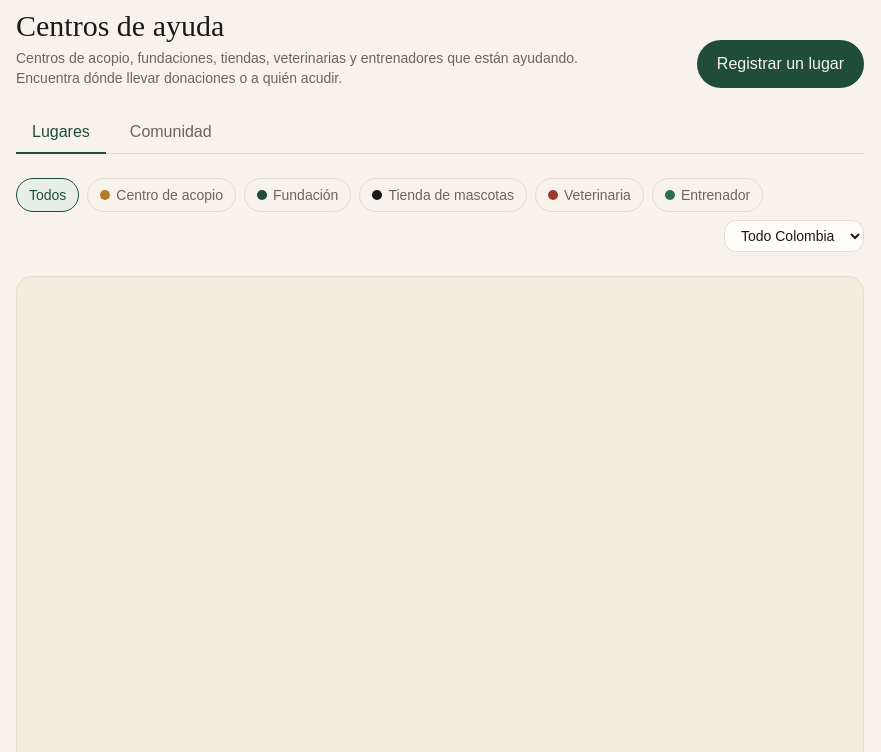
Test case: RedDeApoyo — Comunidad (feature 42) › la pestaña Comunidad lista los avisos con tipo, categoría y WhatsApp correcto
The width and height of the screenshot is (881, 752).
Click the button "Comunidad". click: (171, 133)
box: [114,112,228,154]
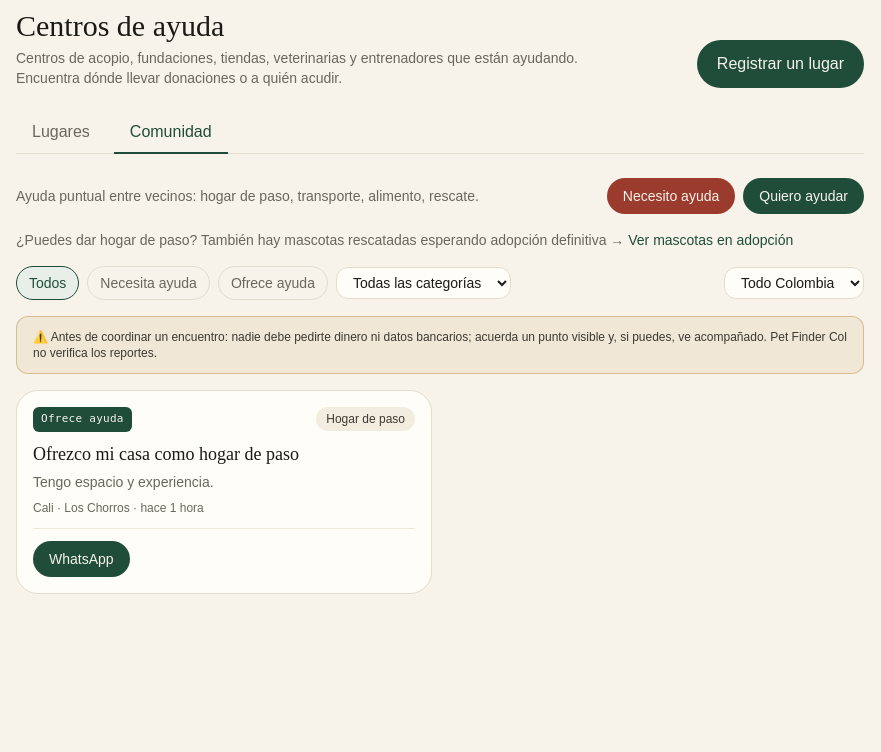
Now the heading "Ofrezco mi casa como hogar de paso" is shown, box [33,444,299,464]
Now the number of buttons "Ofrece ayuda" is 2, box [218,266,328,300]; [33,407,132,432]
Now the text "nadie debe pedirte dinero" is shown, box [33,330,847,360]
